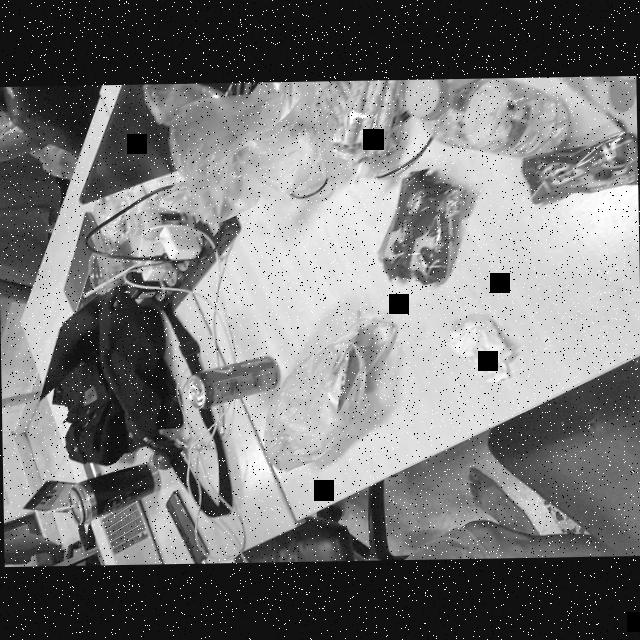can: (181, 351, 283, 408)
plastic_bag: (138, 82, 332, 222), (250, 311, 404, 473)
plastic_bottle: (402, 76, 576, 164), (112, 204, 196, 242)
plastic_bottle_cap: (402, 77, 448, 126)
plastic_box: (82, 185, 125, 241)
plastic_cup: (76, 246, 152, 302)
scrap_paper: (442, 307, 520, 385)
snack_bag: (374, 164, 474, 290), (513, 126, 638, 209), (313, 79, 408, 184)
straw: (80, 260, 140, 299), (43, 496, 77, 518)
